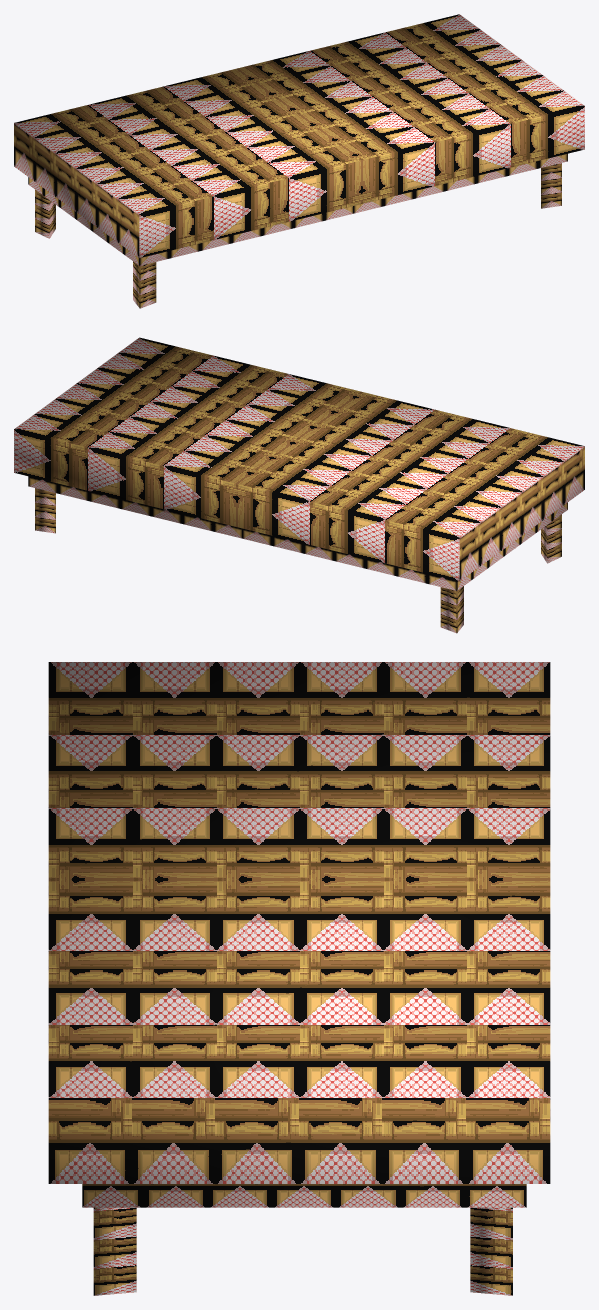
File: 3065IMRL04_06.gltf
3 renders of one model, top to bottom at view 1: azimuth 30°, elevation 25°; view 2: azimuth 150°, elevation 25°; view 3: azimuth 270°, elevation 25°, orthographic. The views are drawn at different scales.
Visible parts, largest first — view 1: 3065IMRL04_06; view 2: 3065IMRL04_06; view 3: 3065IMRL04_06.
Boxes of the visible parts, x1,y1,x2,y2 form: 3065IMRL04_06: (14, 14, 584, 308); 3065IMRL04_06: (14, 337, 584, 633); 3065IMRL04_06: (48, 662, 550, 1295).
Bounding box in the file's own units: 1.95 × 0.4399 × 0.9502.
1 material, 1 textured.
